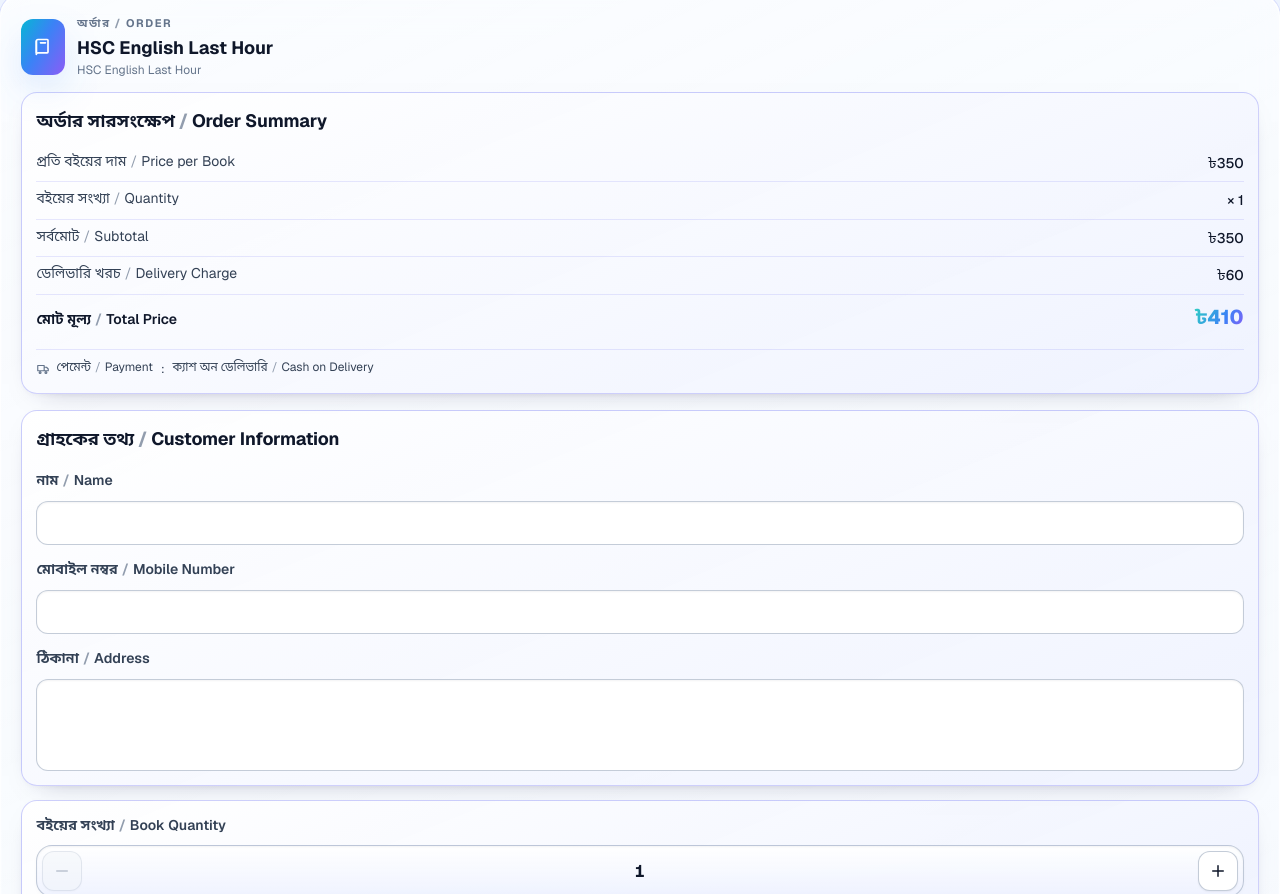
OrderForm › sends the selected quantity to the server
Click the button named "Increase quantity" at (1218, 872), box [1198,852,1238,892]
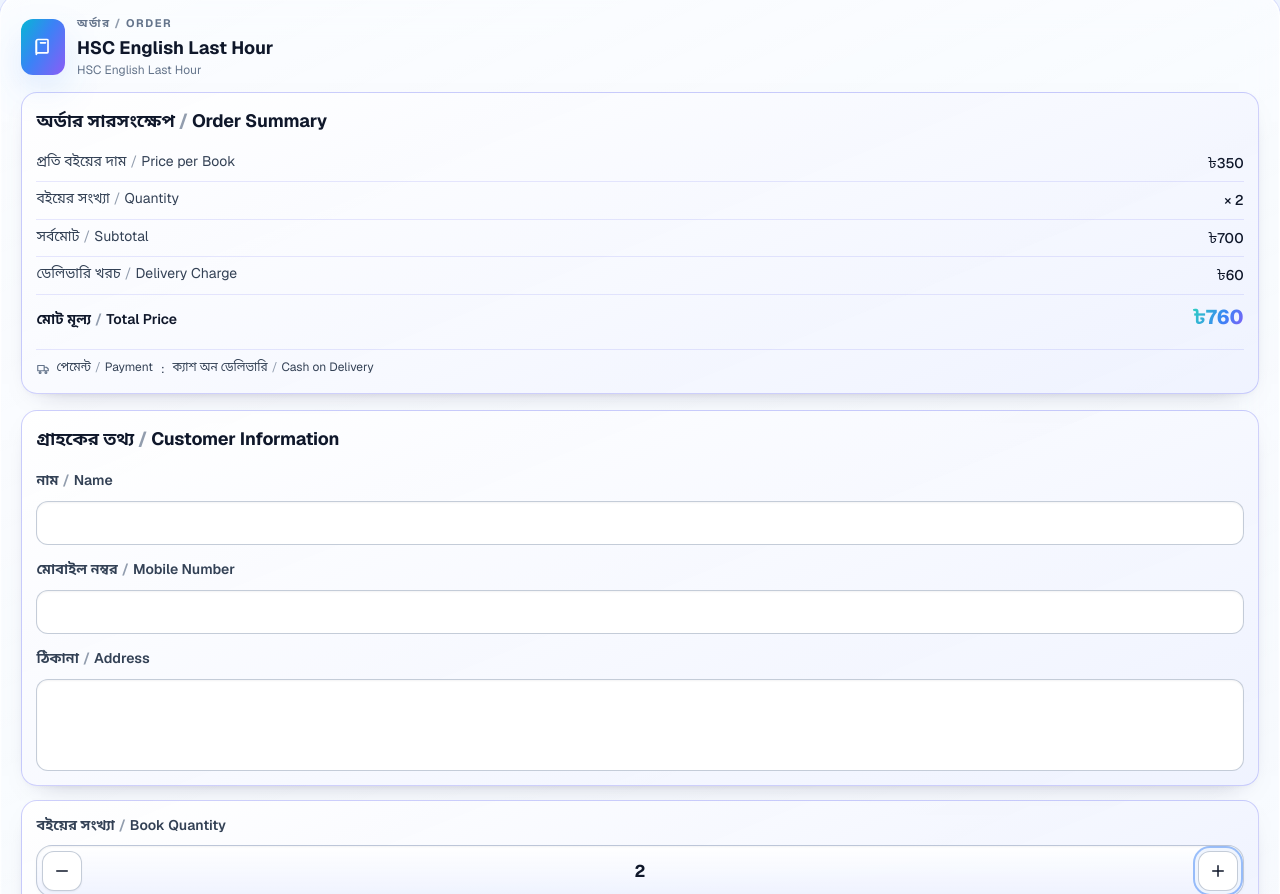
Type "Ayesha Rahman" into the field labelled "নাম/Name" at (640, 523), box [36,501,1244,546]
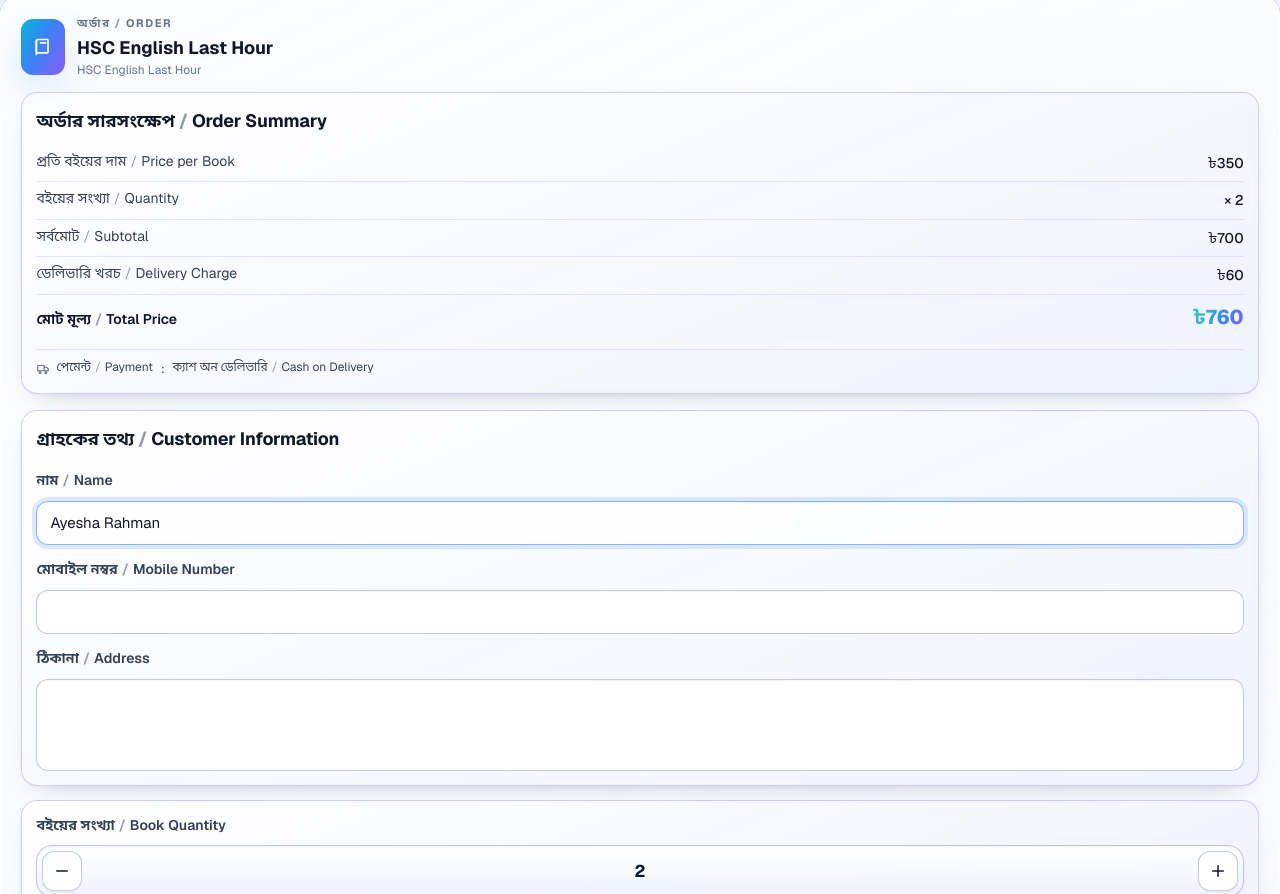
Type "01712345678" into the field labelled "মোবাইল নম্বর/Mobile Number" at (640, 612), box [36,590,1244,634]
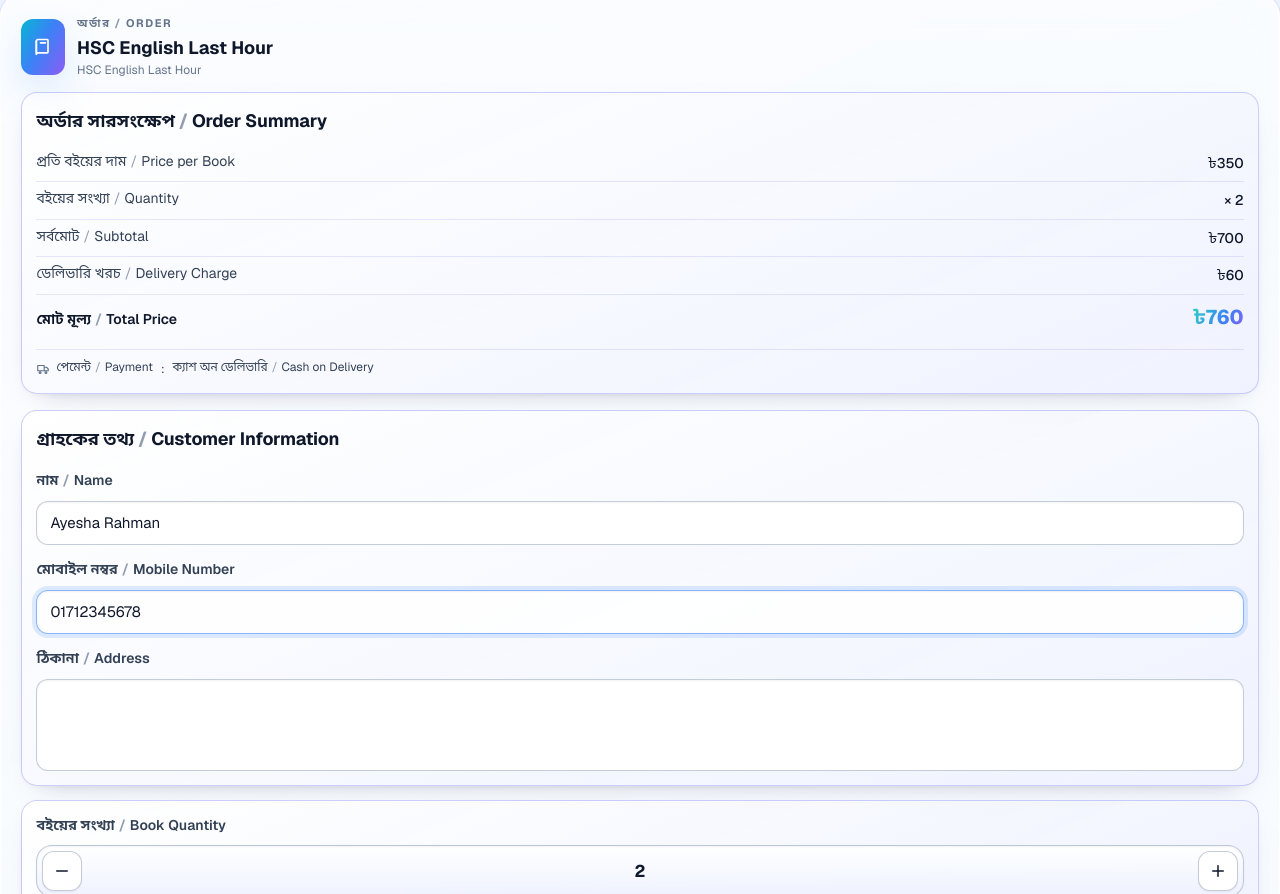
Type "House 12, Road 5, Dhanmondi" into the text box labelled "ঠিকানা/Address" at (640, 725), box [36,679,1244,771]
(page scrolled)
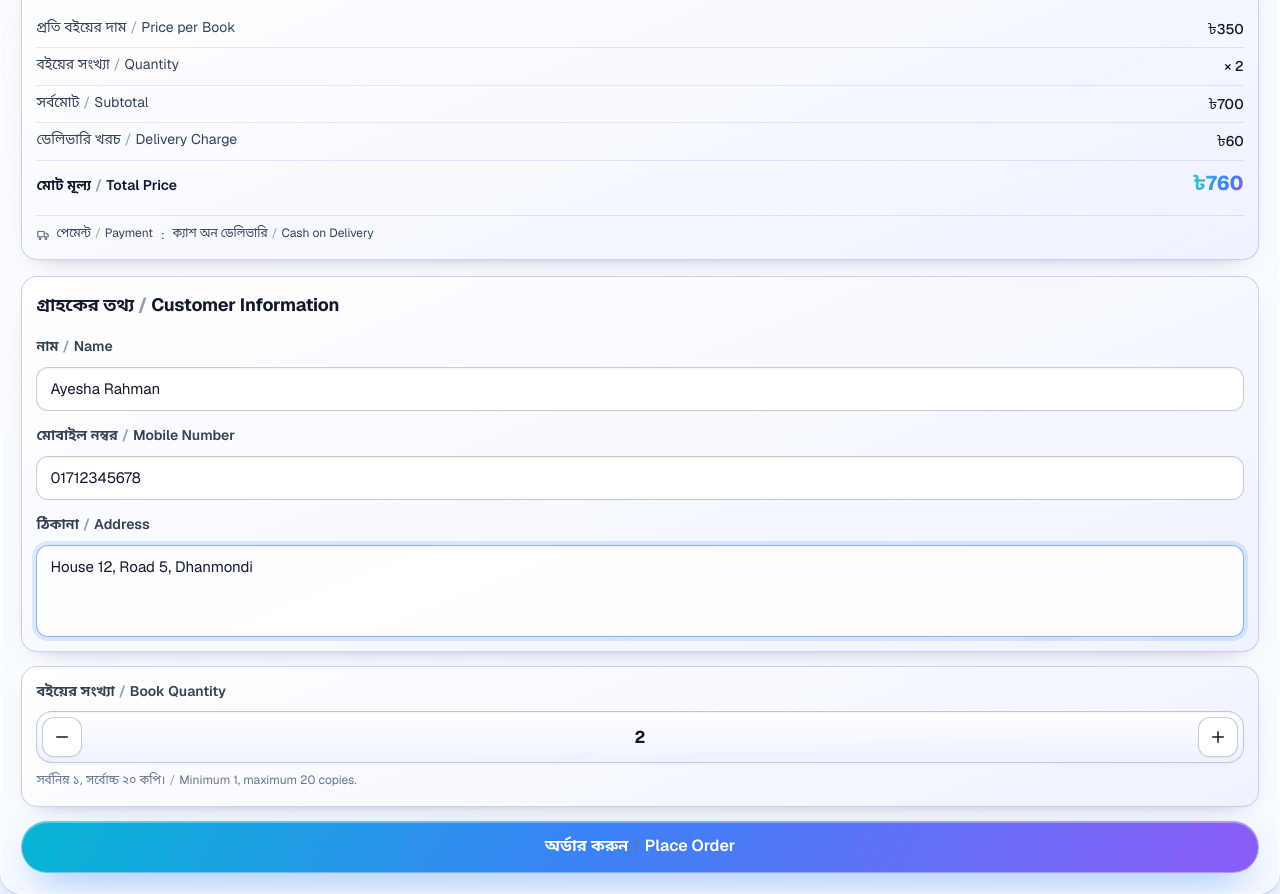
Click the button "অর্ডার করুন/Place Order" at (640, 848), box [21,822,1259,874]
(page scrolled)
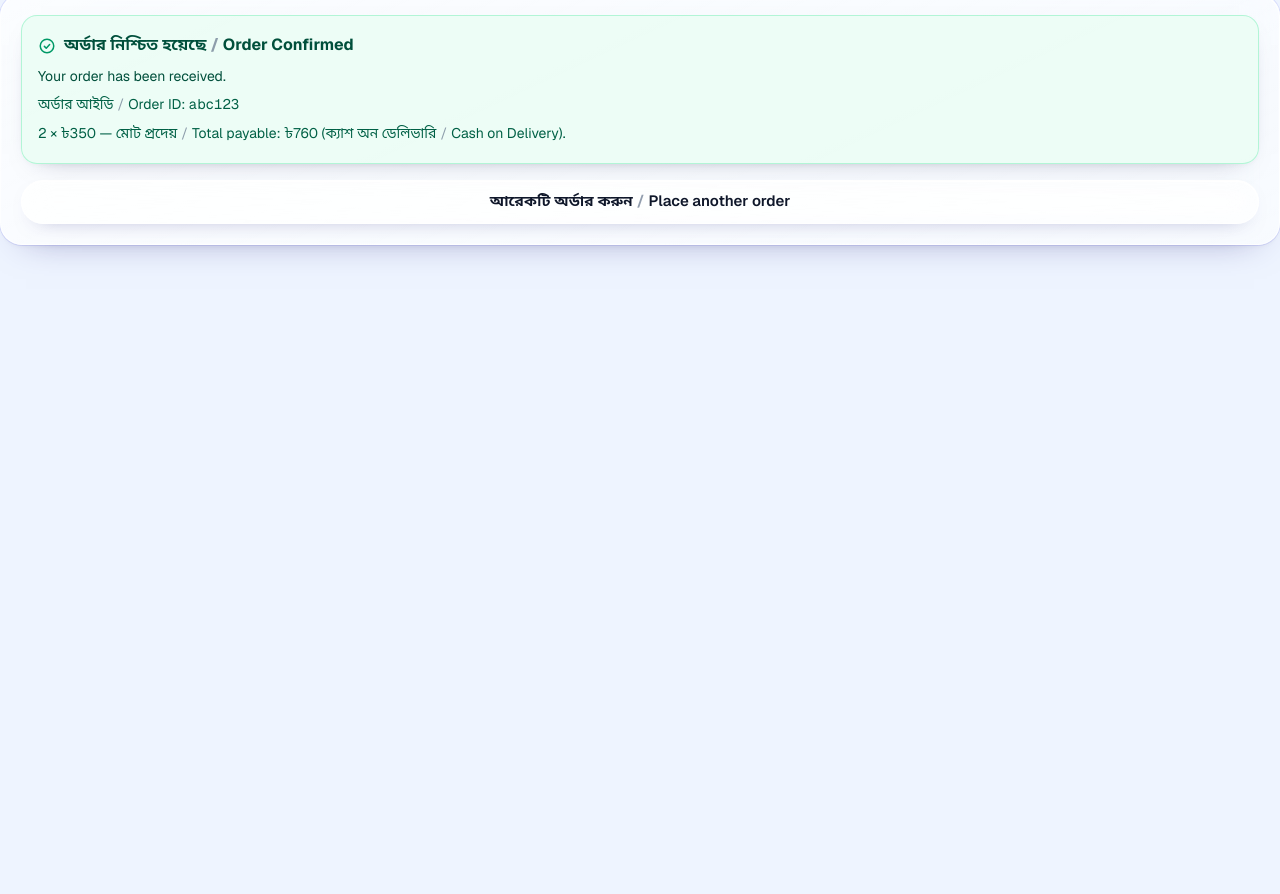
Now the text "Order Confirmed" is shown, box [223,34,354,55]
